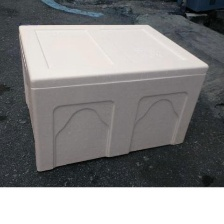foam_box: (12, 18, 212, 173)
